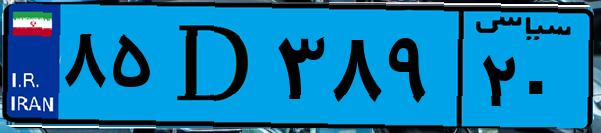0: (525, 38, 570, 115)
2: (475, 38, 525, 113)
3: (270, 28, 330, 110)
5: (110, 28, 158, 98)
8: (330, 28, 385, 110), (57, 26, 110, 100)
9: (385, 28, 445, 110)
D: (158, 12, 270, 120)
